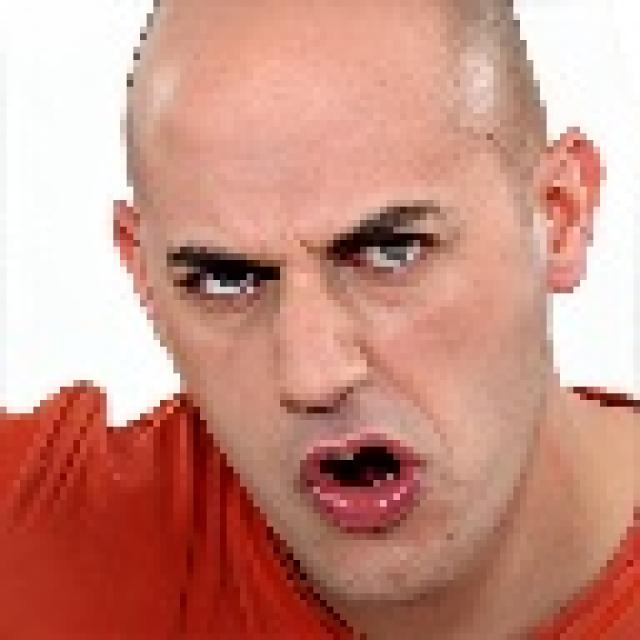angry: (76, 23, 640, 640)
